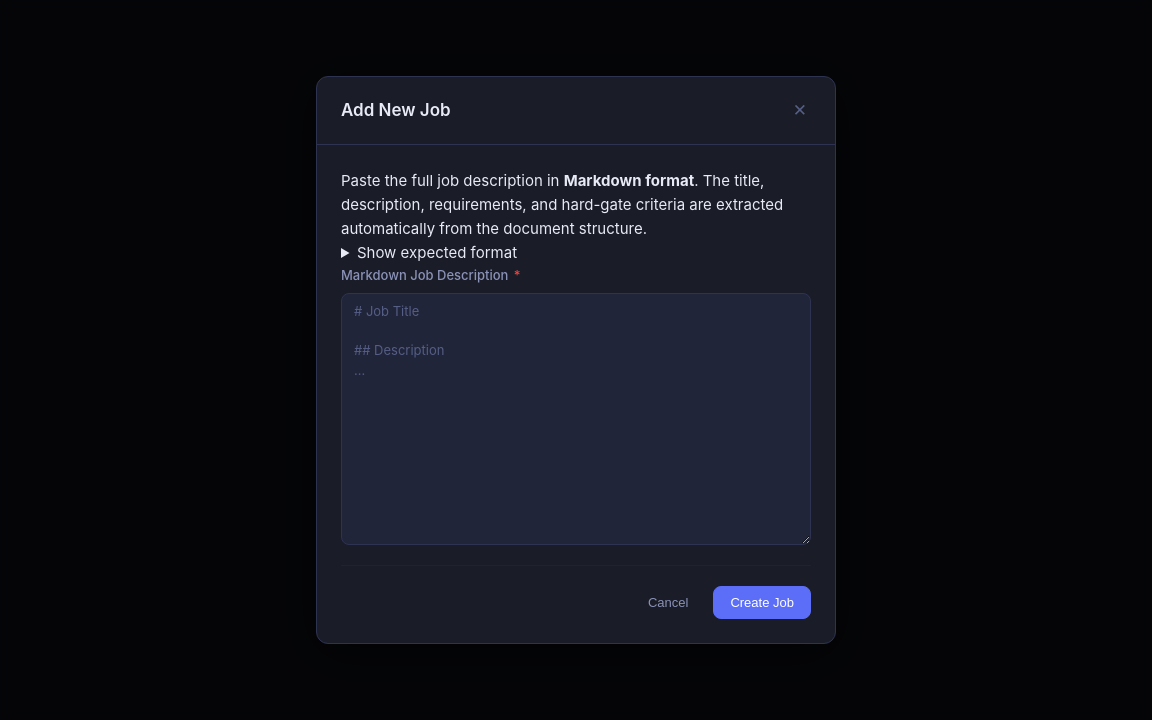
Scenario: JobIngestionModal › inline error shown when API returns field error for "title"
Type "## No H1 Here" into the text box with test id "job-raw-markdown". click: (576, 420)
box: [341,294,811,546]
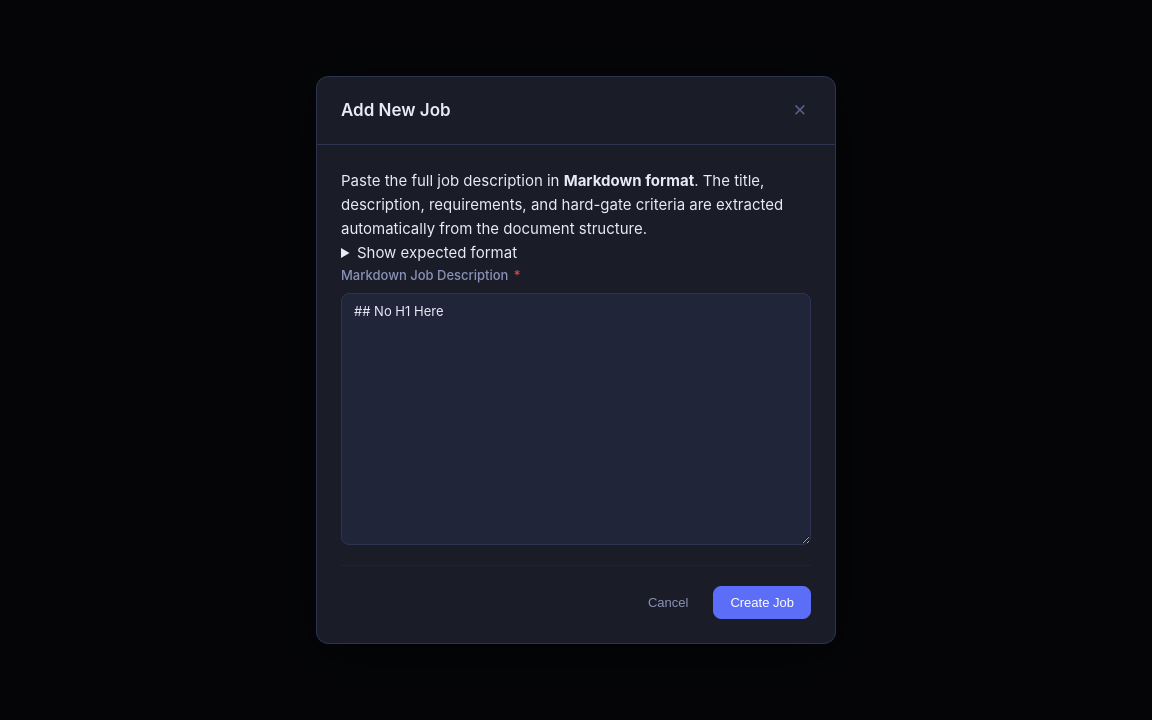
Click the button "Create Job". click: (762, 603)
box: [713,586,811,620]
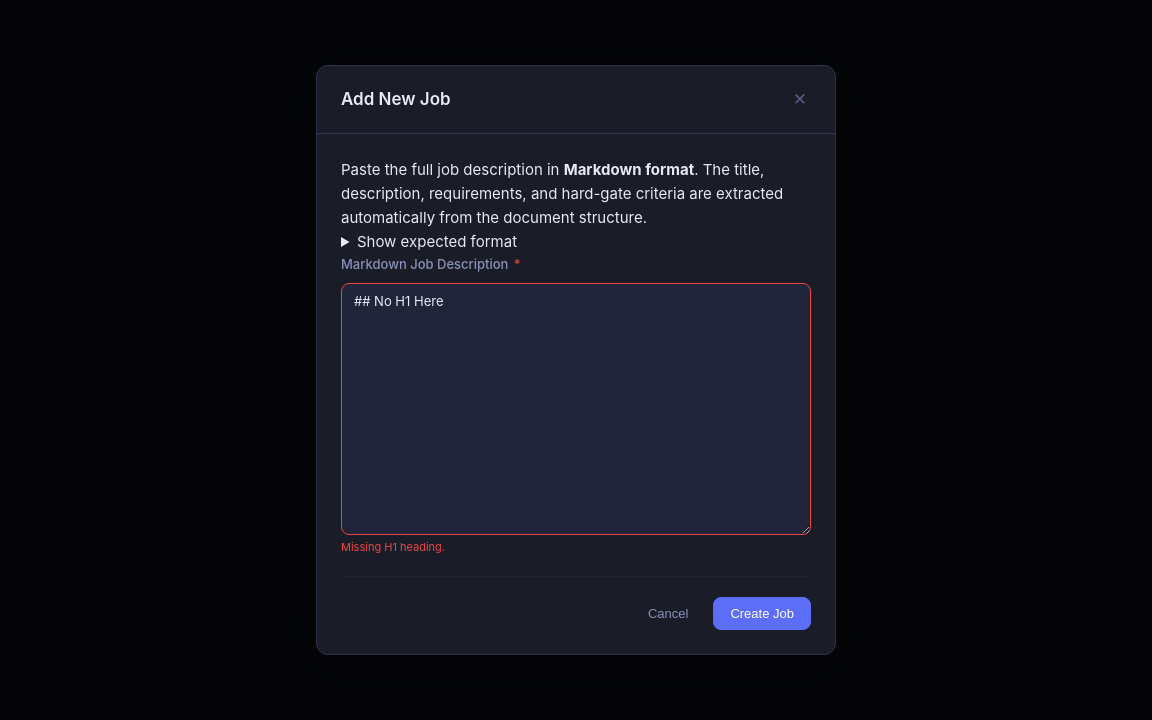
Now the text "Missing H1 heading." is shown, box [341,540,445,554]
